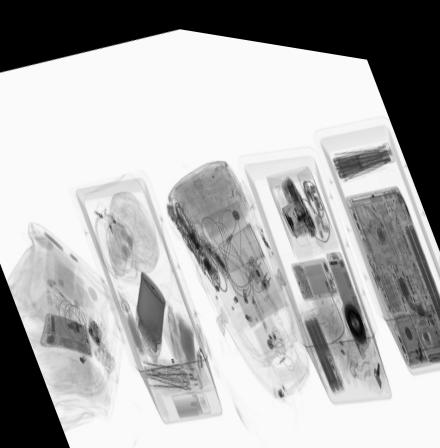Powerbank: (299, 301, 344, 382)
